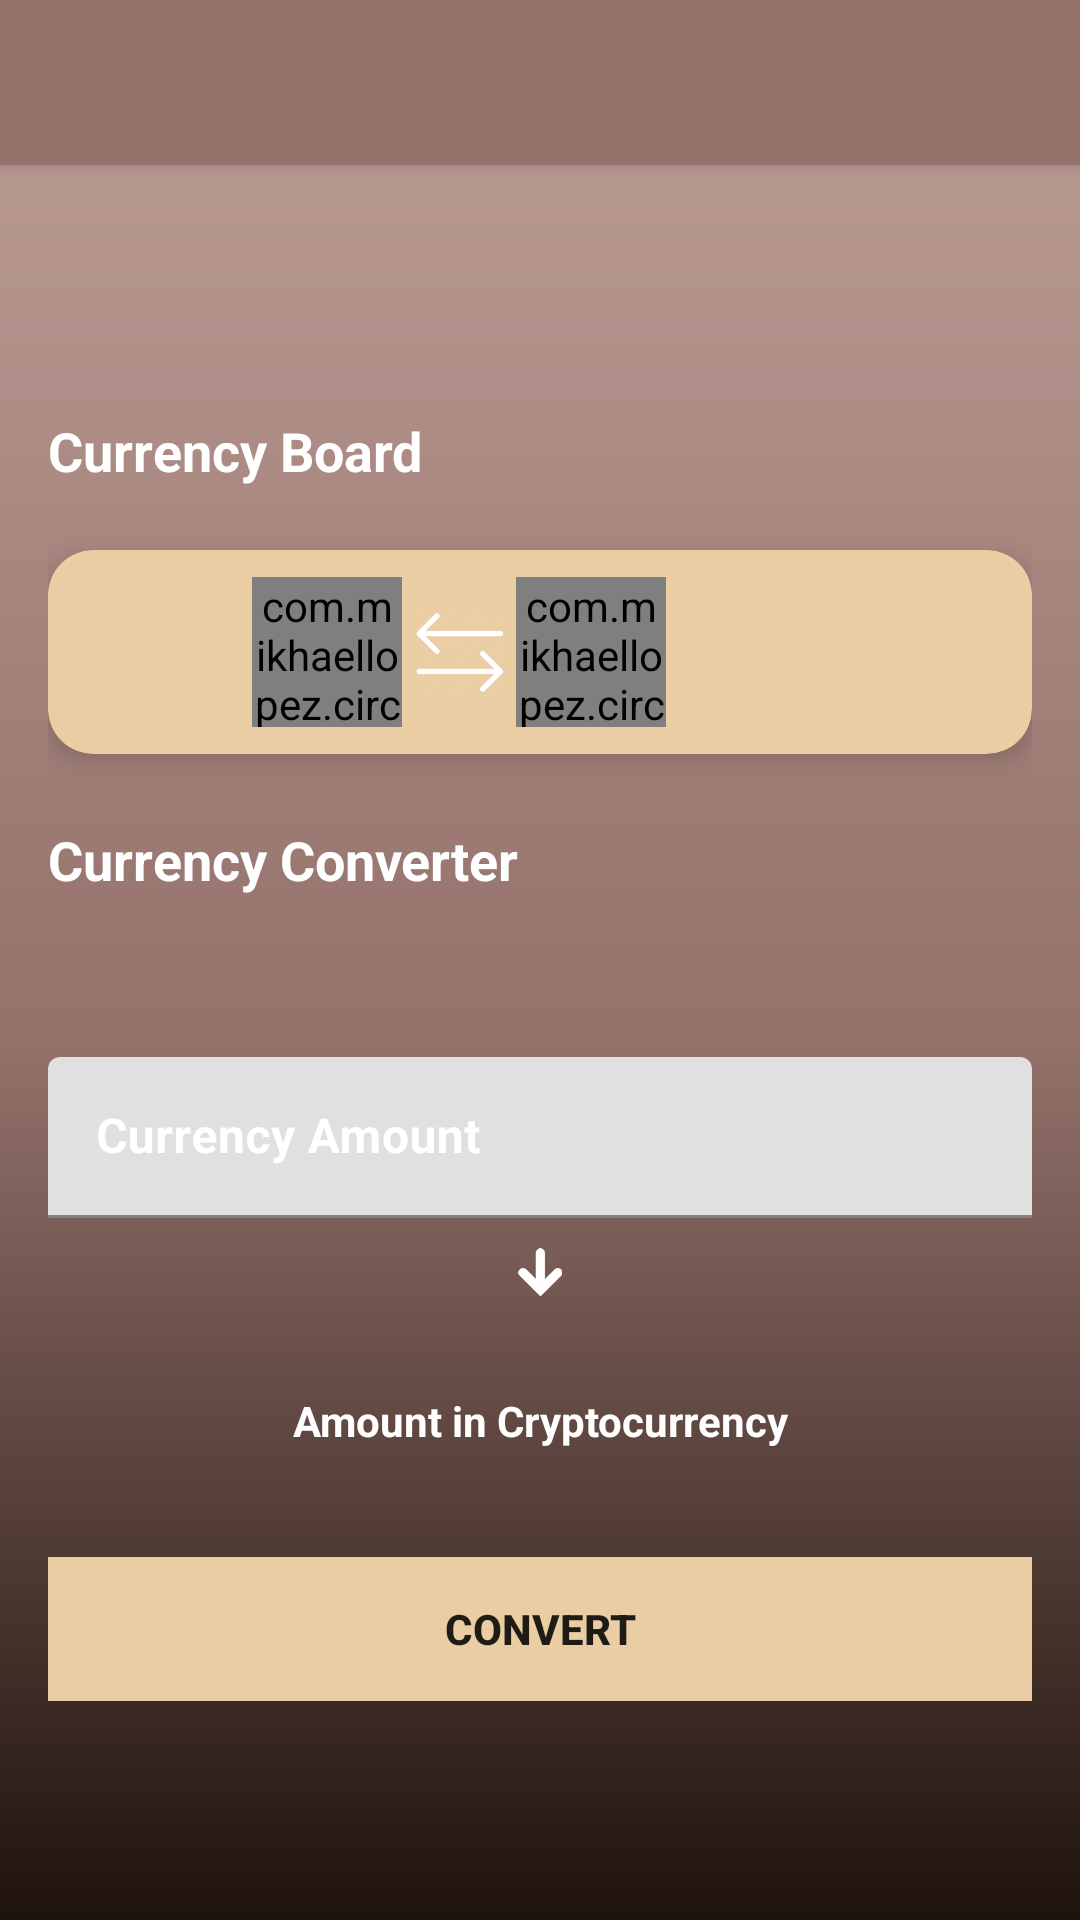

Icon click points for this 1080x1920 phone screenshot, format point (x, y):
arrow down: point (540, 1272)
currency exchange: point (459, 652)
